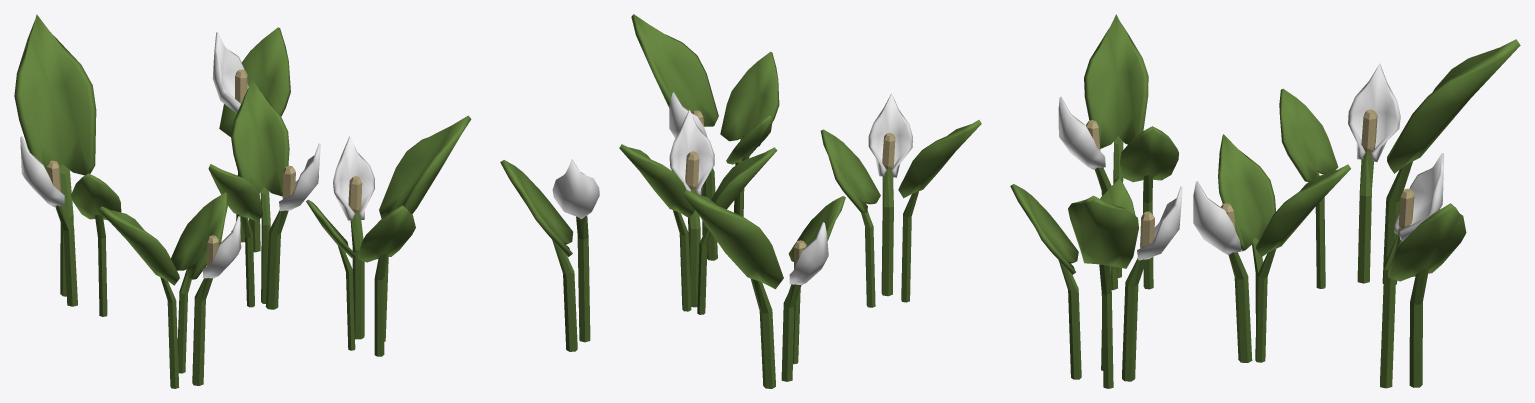
The model's file is Suovehka_kasvanut.fbx.
3 views of the same model, side by side, from view 1: azimuth 30°, elevation 25°; view 2: azimuth 150°, elevation 25°; view 3: azimuth 270°, elevation 25° (orthographic). The views are drawn at different scales.
Visible parts, largest first — view 1: Suovehka_kasvanut; view 2: Suovehka_kasvanut; view 3: Suovehka_kasvanut.
Part boxes in pixels (x1=…): Suovehka_kasvanut: x1=14, y1=14, x2=471, y2=388; Suovehka_kasvanut: x1=500, y1=14, x2=981, y2=388; Suovehka_kasvanut: x1=1010, y1=14, x2=1520, y2=388.
Bounding box in the file's own units: 2.07 × 1.16 × 1.89.
